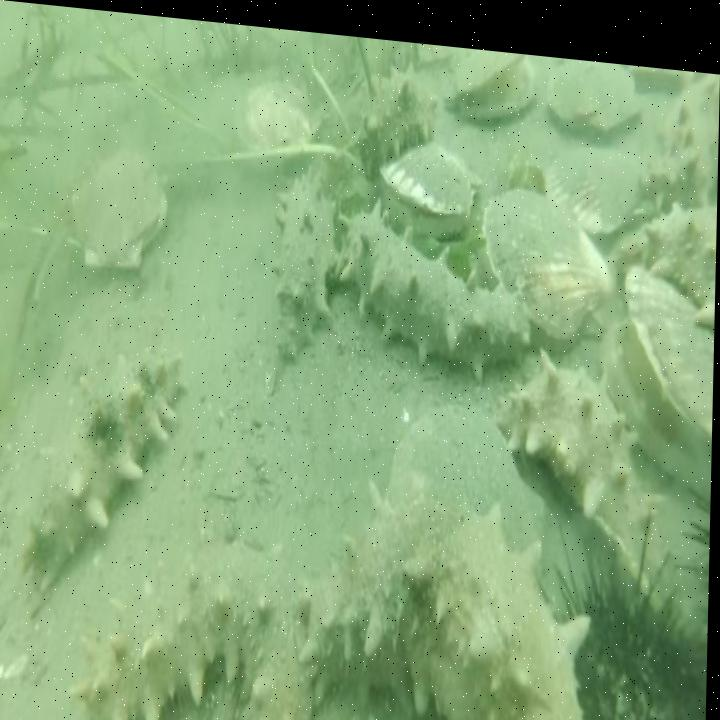echinus: (569, 522, 712, 720)
holothurian: (292, 450, 613, 720), (495, 338, 700, 643), (71, 499, 324, 720), (19, 324, 194, 632), (337, 184, 537, 382), (268, 145, 341, 365), (358, 47, 439, 180), (643, 181, 718, 319), (638, 83, 703, 207)
scallop: (598, 239, 717, 491), (476, 169, 621, 342), (385, 384, 553, 517), (70, 136, 171, 282), (377, 125, 479, 233), (543, 128, 649, 229), (234, 62, 324, 174), (544, 44, 644, 138), (441, 36, 539, 124)
